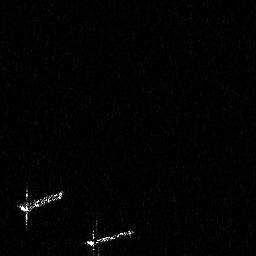ship: (14, 180, 65, 232), (81, 217, 136, 256)
